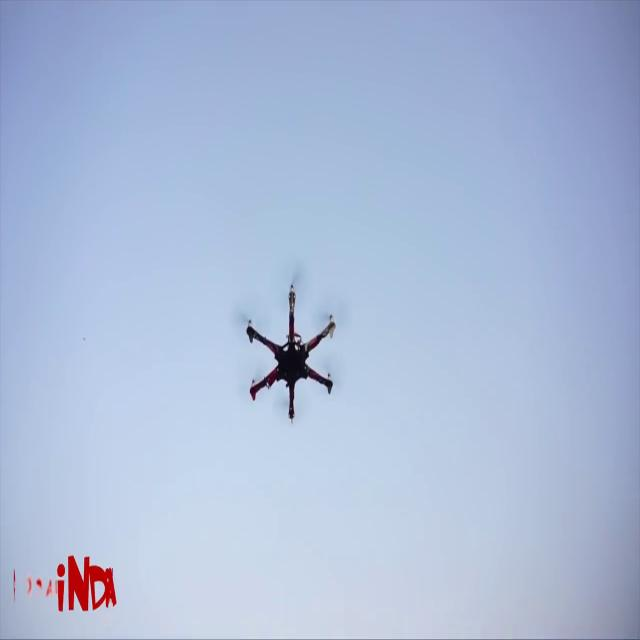drone: (229, 266, 355, 431)
